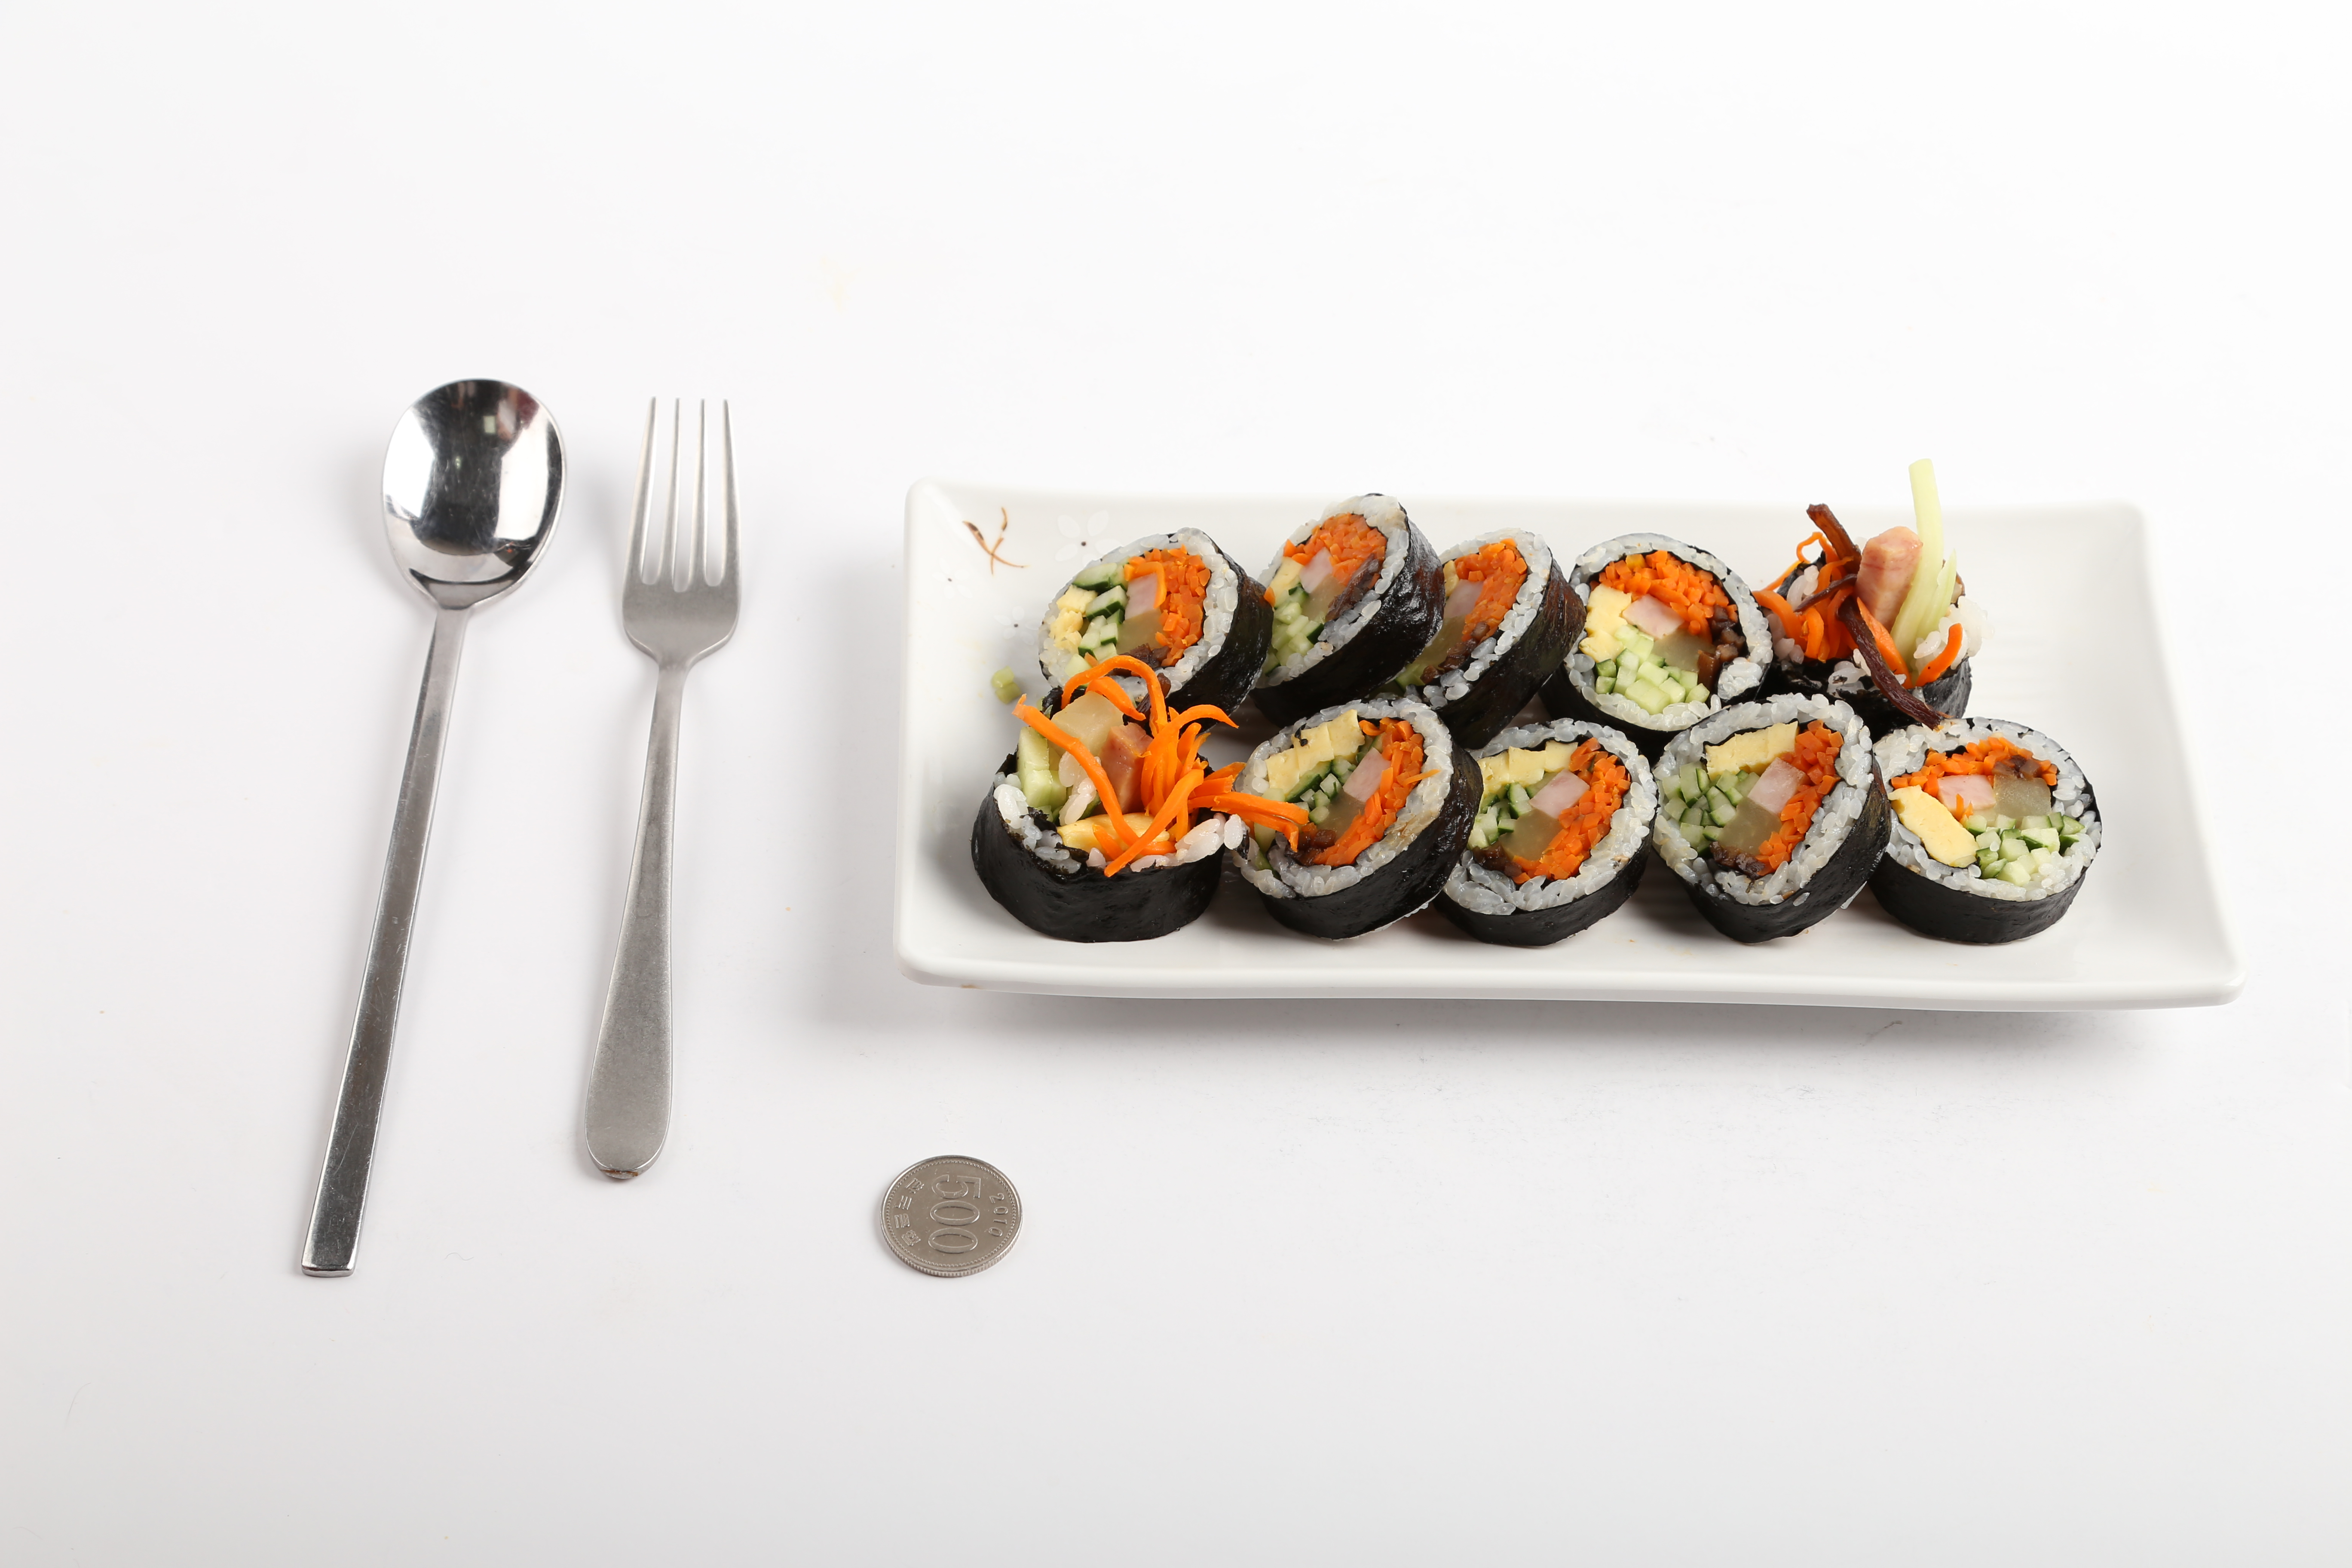dish: (896, 460, 2243, 1010)
ref_coin: (868, 1144, 1025, 1284)
ref_fork: (614, 397, 747, 702)
ref_spoon: (374, 367, 572, 661)
김밥: (968, 490, 2100, 947)
